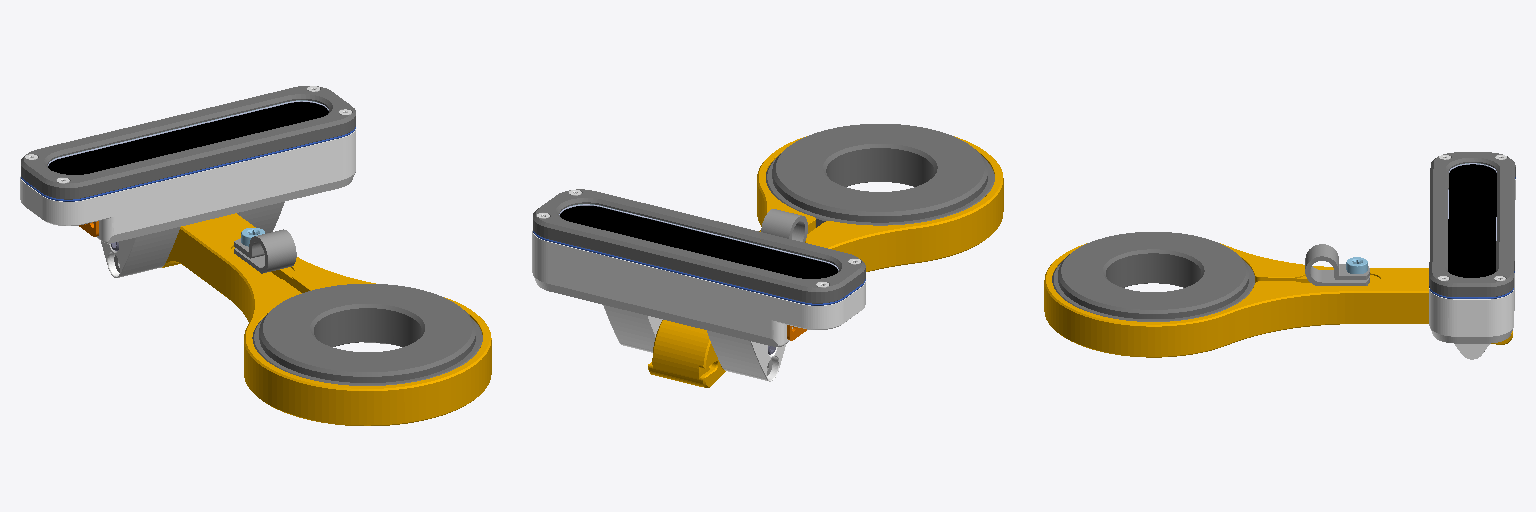
robot.urdf — onrobot_eyes_model:
<?xml version="1.0"?>
<robot name="onrobot_eyes_model">
    <link name="onrobot_eyes_base_link">
        <visual>
            <geometry>
                <mesh filename="package://par_pkg/meshes/visual/onrobot_eyes.dae" />
            </geometry>
        </visual>
        <collision>
            <geometry>
                <mesh filename="package://par_pkg/meshes/collision/onrobot_eyes.stl" />
            </geometry>
        </collision>
    </link>
    <link name="onrobot_eyes_tool_link"/>
    <joint name="onrobot_eyes_joint" type="fixed">
        <origin rpy="0 0 0" xyz="0 0 0.012"/>
        <parent link="onrobot_eyes_base_link"/>
        <child link="onrobot_eyes_tool_link"/>
        <axis xyz="0 0 0"/>
    </joint>
</robot>

--- What the picture shows (computed from the rendered views, not written in the file) ---
3 views of the same robot in one strip: view 1: azimuth 30°, elevation 25°; view 2: azimuth 150°, elevation 25°; view 3: azimuth 270°, elevation 25° (orthographic).
Model onrobot_eyes_model with 2 links and 1 joints (1 fixed), rooted at onrobot_eyes_base_link, posed all joints at 0.
Visible links, largest first — view 1: onrobot_eyes_base_link; view 2: onrobot_eyes_base_link; view 3: onrobot_eyes_base_link.
Link boxes in pixels (box(x1,y1,x2,y2)): onrobot_eyes_base_link: box(20, 86, 491, 425); onrobot_eyes_base_link: box(532, 124, 1003, 387); onrobot_eyes_base_link: box(1044, 152, 1515, 359).
Bounding box of the posed robot: 0.104 × 0.1552 × 0.042 m (x, y, z).
Meshes: 1 distinct files referenced, 1 mesh visuals loaded (1 Collada DAE).